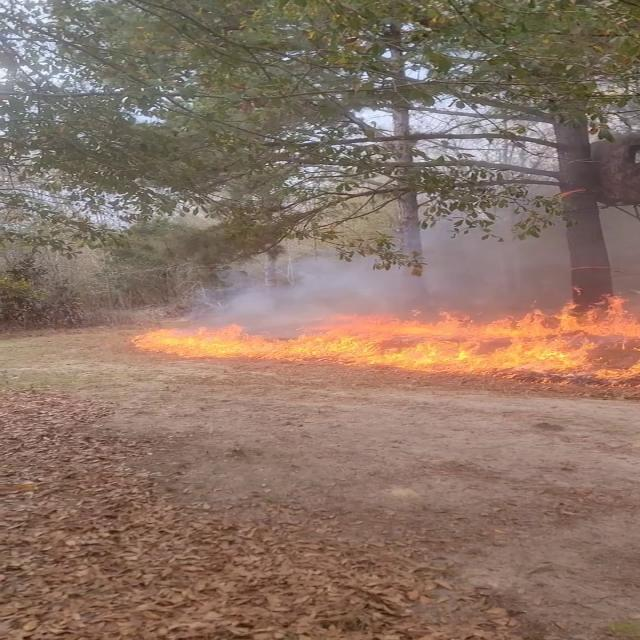Fire: (128, 307, 638, 372)
Smoke: (247, 197, 640, 319)
